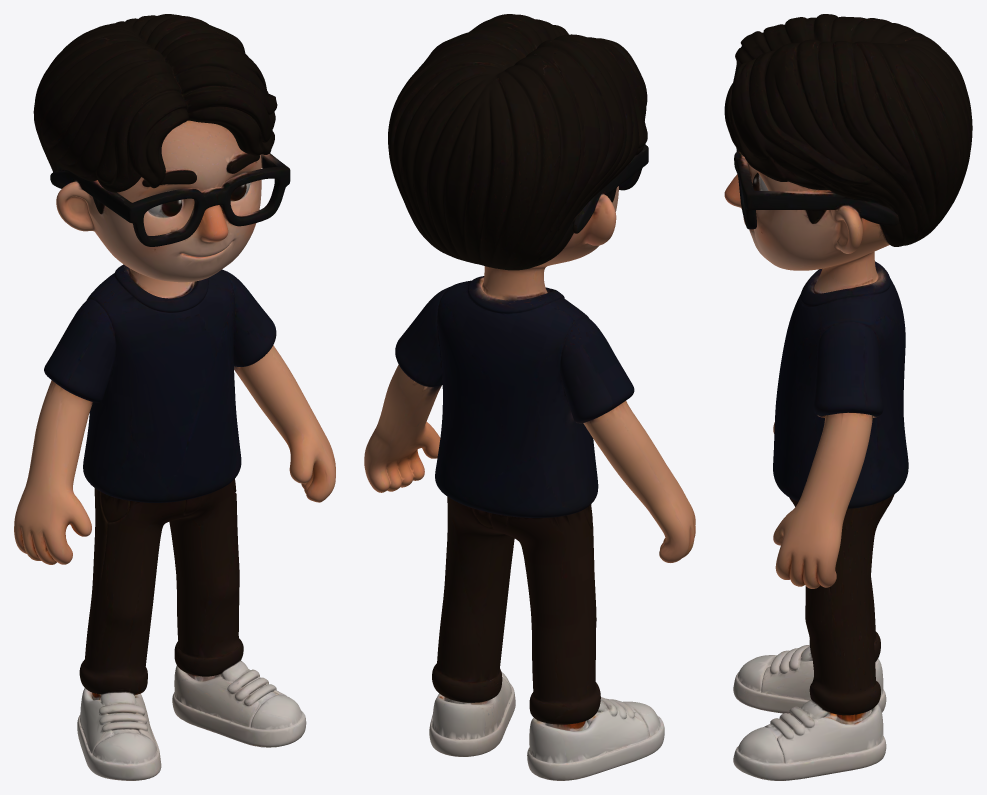
Rendered from avatar-b.glb.
3 views of the same model, side by side, from view 1: azimuth 30°, elevation 25°; view 2: azimuth 150°, elevation 25°; view 3: azimuth 270°, elevation 25° (orthographic). The views are drawn at different scales.
Visible parts, largest first — view 1: material; view 2: material; view 3: material.
Boxes of the visible parts, x1,y1,x2,y2 form: material: (14,14,335,780); material: (364,14,695,780); material: (724,14,972,780).
Bounding box in the file's own units: 0.5369 × 1.13 × 0.3647.
1 material, 1 textured.
